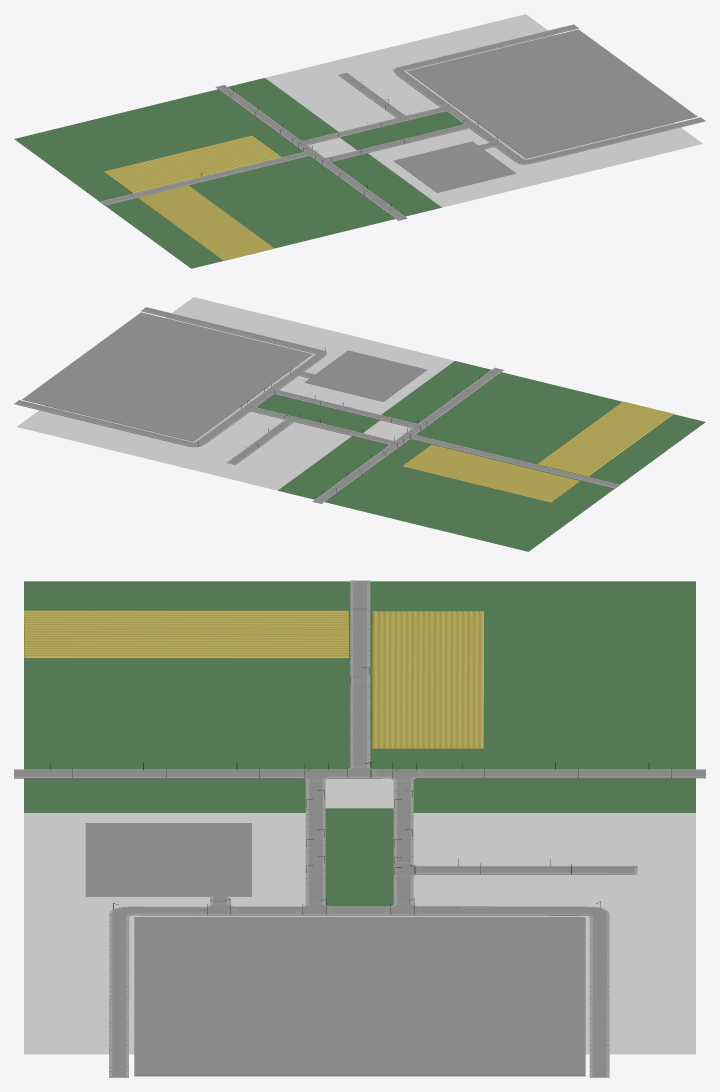
The model's file is Ground.fbx.
The picture shows the model from 3 angles, top to bottom: view 1: azimuth 30°, elevation 25°; view 2: azimuth 150°, elevation 25°; view 3: azimuth 270°, elevation 25°; orthographic projection. The views are drawn at different scales.
Visible parts, largest first — view 1: Ground, Square, Road1, pCube23, pCube24, pCube19; view 2: Ground, Square, Road1, pCube23, pCube24, pCube19; view 3: Ground, Square, Road1, pCube24, pCube23, pCube19.
Boxes of the visible parts, x1,y1,x2,y2 form: Ground: (14, 14, 702, 268); Square: (407, 29, 697, 158); Road1: (100, 24, 705, 220); pCube23: (103, 135, 281, 193); pCube24: (138, 185, 274, 260); pCube19: (393, 141, 516, 192); Ground: (16, 297, 705, 551); Square: (22, 312, 312, 441); Road1: (14, 307, 619, 503); pCube23: (402, 444, 580, 502); pCube24: (537, 401, 673, 476); pCube19: (304, 350, 427, 401); Ground: (24, 581, 695, 1054); Square: (134, 917, 585, 1076); Road1: (14, 580, 705, 1077); pCube24: (24, 610, 348, 658); pCube23: (371, 611, 483, 749); pCube19: (85, 823, 251, 896).
Size of the model in its own units: 52488 by 414 by 30896.
